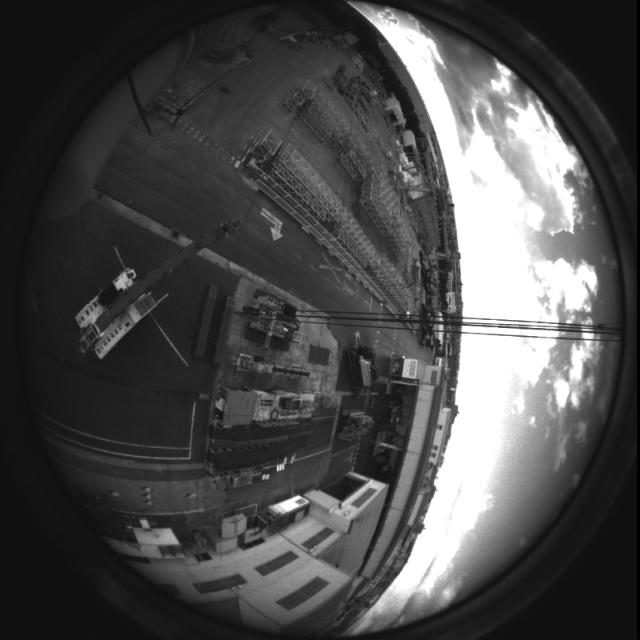rope: (209, 301, 635, 345)
sky: (322, 2, 620, 637)
